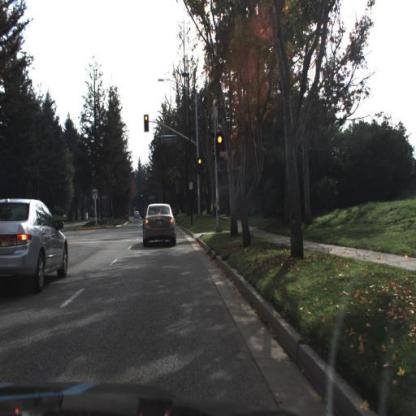car: (1, 194, 71, 301), (140, 200, 178, 251)
trafficLight-Red: (216, 132, 224, 159), (143, 115, 153, 135), (198, 157, 204, 178)
